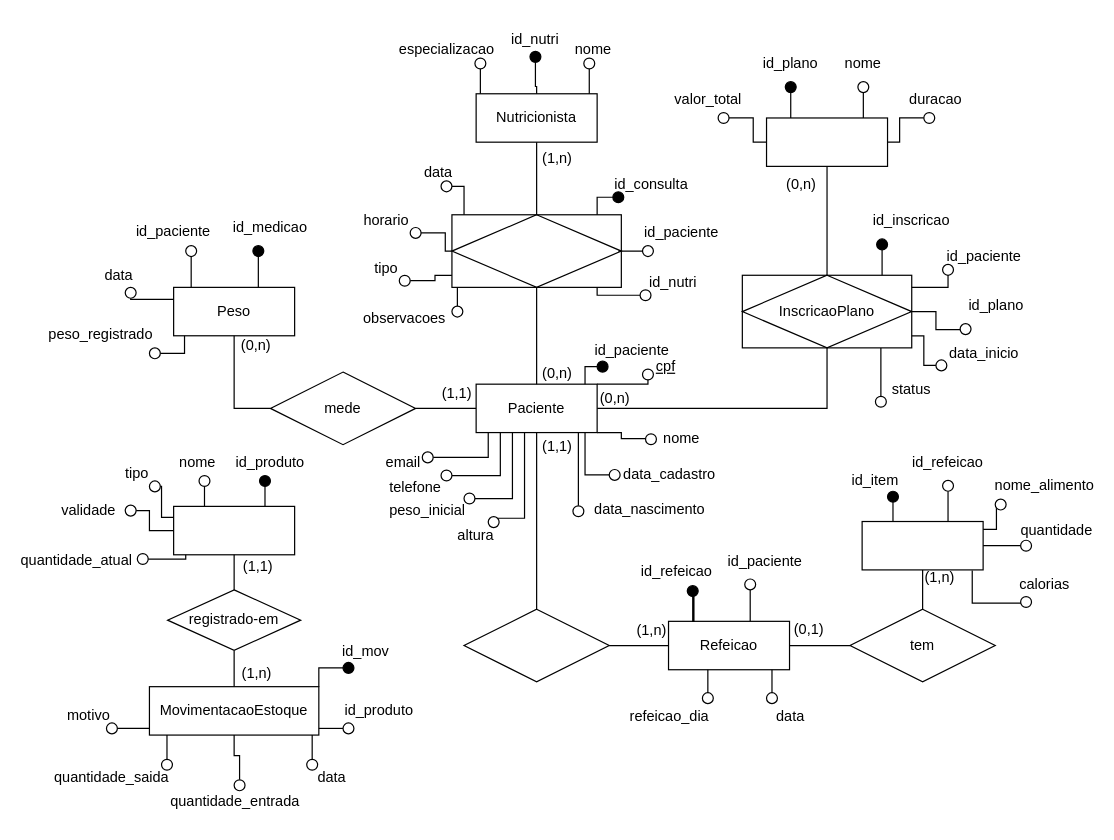
Image size: 1114x840. Some labels were removed from this diagram. The box of each missing label's shape, as (x1, y1, x2, y2) in pixels:
Consulta: (451, 214, 621, 287)
faz: (463, 608, 609, 682)
ItemRefeicao: (861, 520, 983, 570)
PlanoNutri: (765, 117, 888, 166)
Produto: (172, 505, 295, 555)
